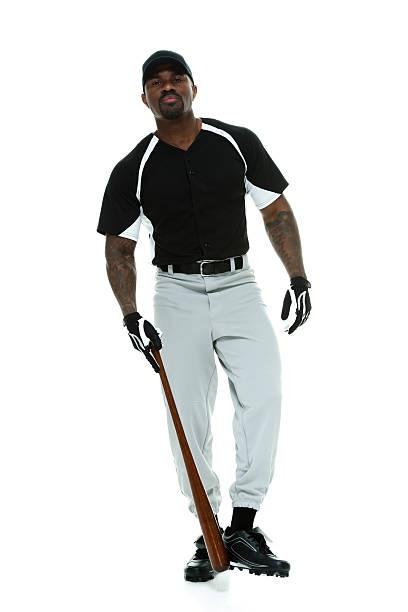bita: (153, 340, 231, 572)
